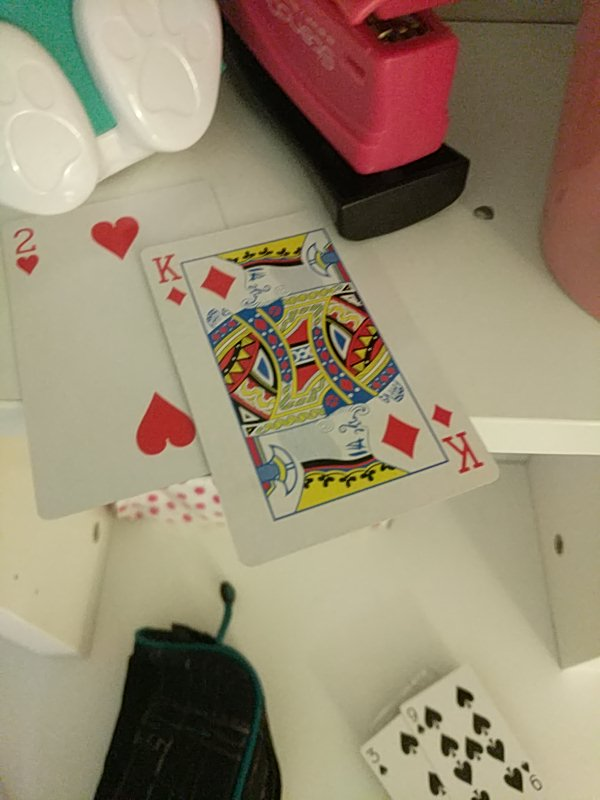Diamonds: (140, 212, 505, 569)
Hearts: (2, 185, 228, 519)
